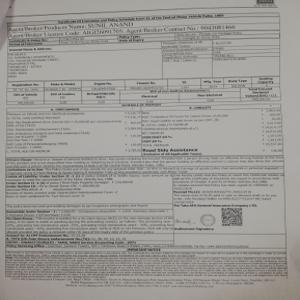table: (4, 13, 282, 103), (4, 104, 284, 154)
text: (6, 249, 287, 291)
